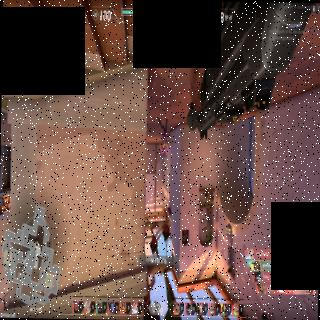ENEMY-BODY: (158, 115, 168, 162)
ENEMY-HEAD: (162, 152, 165, 160)
